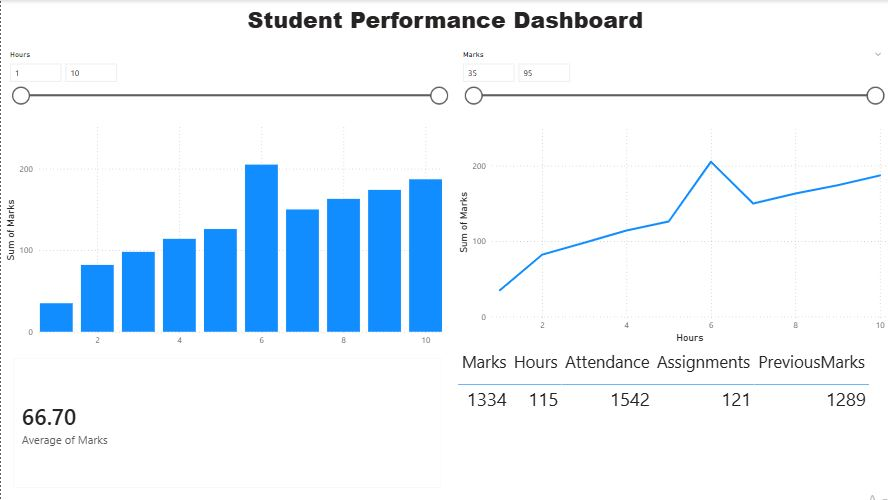

What the dashboard file says about the page in this screenshot:
{"tool":"powerbi","page":{"name":"Page 1","canvas":[1280,720],"ordinal":0},"visuals":[{"type":"columnChart","fields":{"Category":["PB_data.Hours"],"Y":["Sum(PB_data.Marks)"]},"box":[0,151.2,640,369.6],"z":0},{"type":"lineChart","fields":{"Category":["PB_data.Hours"],"Y":["Sum(PB_data.Marks)"]},"box":[651.8,151.2,628.2,347.7],"z":1000},{"type":"cardVisual","fields":{"Data":["Avg(PB_data.Marks)"]},"box":[0,498.9,651.8,221.7],"z":2000},{"type":"slicer","fields":{"Values":["PB_data.Hours"]},"box":[0,67.2,651.8,107.5],"z":3000},{"type":"slicer","fields":{"Values":["PB_data.Marks"]},"box":[651.8,67.2,628.2,102.5],"z":4000},{"type":"tableEx","fields":{"Values":["Sum(PB_data.Marks)","Sum(PB_data.Hours)","Sum(PB_data.Attendance)","Sum(PB_data.Assignments)","Sum(PB_data.PreviousMarks)"]},"box":[651.8,498.9,616.5,221.7],"z":5000},{"type":"textbox","box":[0,0,1280,67.2],"z":5001}]}

Visuals, with their boxes in screenshot pixels (x1, y1, x2, y2), scaled from the page's 1280x720 canvas onto the 888x500 screenshot:
columnChart - PB_data.Hours x Sum(PB_data.Marks): [x1=0, y1=105, x2=444, y2=362]
lineChart - PB_data.Hours x Sum(PB_data.Marks): [x1=452, y1=105, x2=887, y2=346]
cardVisual - Avg(PB_data.Marks): [x1=0, y1=346, x2=452, y2=499]
slicer - PB_data.Hours: [x1=0, y1=47, x2=452, y2=121]
slicer - PB_data.Marks: [x1=452, y1=47, x2=887, y2=118]
tableEx - Sum(PB_data.Marks) x Sum(PB_data.Hours): [x1=452, y1=346, x2=880, y2=499]
textbox: [x1=0, y1=0, x2=887, y2=47]
